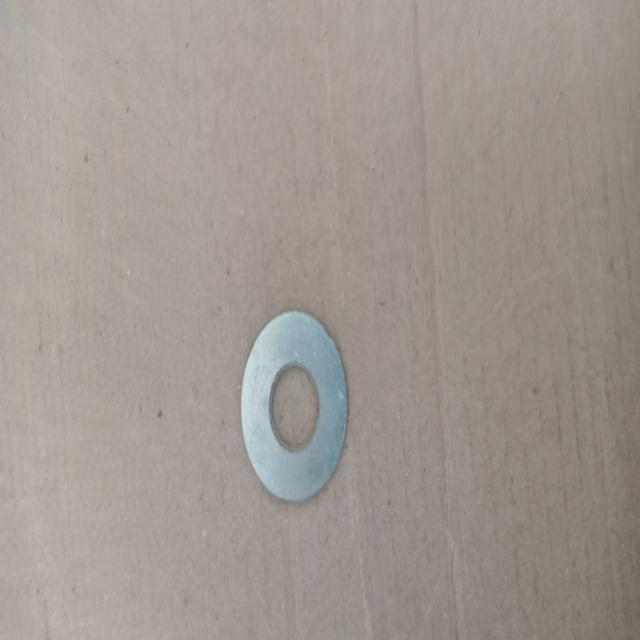washer: (240, 311, 349, 502)
